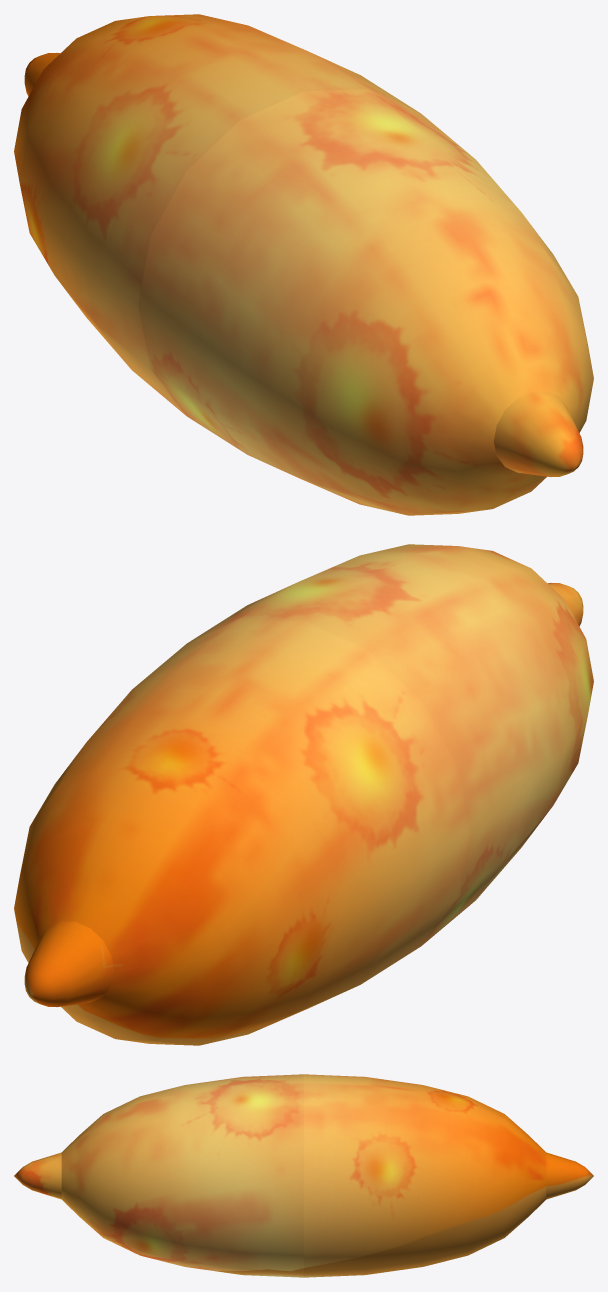
Rendered from FingerLime_02.fbx.
The picture shows the model from 3 angles, top to bottom: view 1: azimuth 30°, elevation 25°; view 2: azimuth 150°, elevation 25°; view 3: azimuth 270°, elevation 25°; orthographic projection. The views are drawn at different scales.
Parts seen in each view (by area): view 1: FingerLime_02; view 2: FingerLime_02; view 3: FingerLime_02.
Part boxes in pixels (x1,y1,x2,y2): FingerLime_02: (14, 14, 593, 515); FingerLime_02: (14, 544, 593, 1045); FingerLime_02: (14, 1074, 593, 1277).
Bounding box in the file's own units: 19.5 × 19.5 × 55.55.
